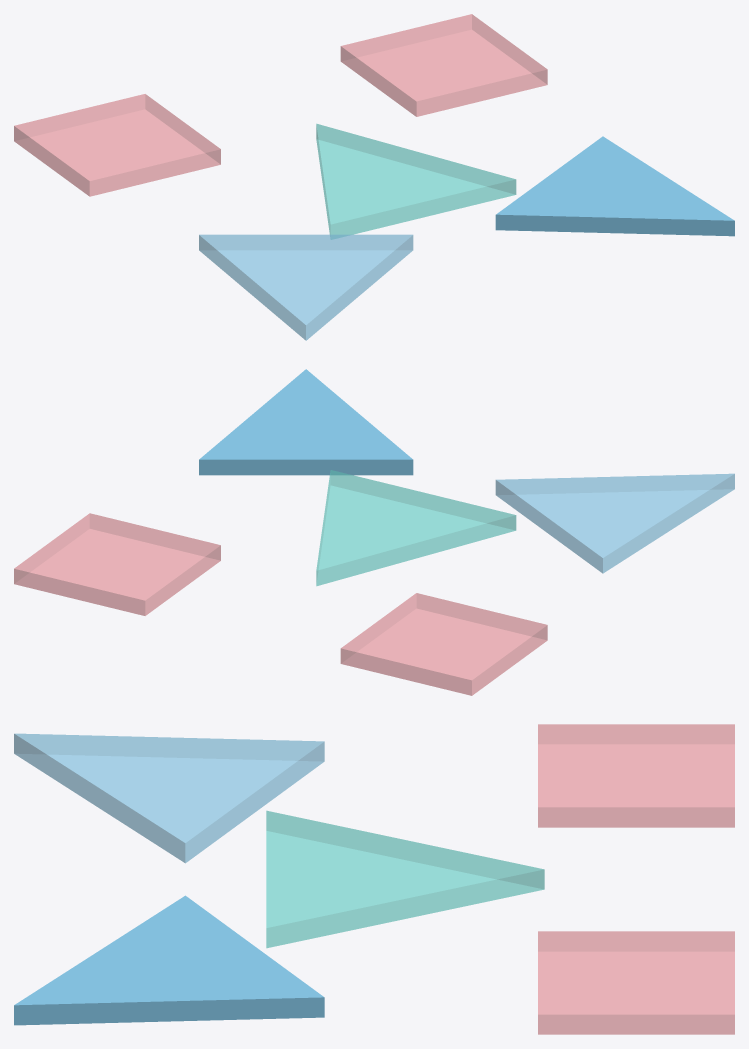
The model's file is farfalla_step6.glb.
3 views of the same model, one above another, from view 1: azimuth 30°, elevation 25°; view 2: azimuth 150°, elevation 25°; view 3: azimuth 270°, elevation 25° (orthographic). The views are drawn at different scales.
Visible parts, largest first — view 1: triangolo_isoscele_grande.001, triangolo_isoscele_grande, rombo.001, rombo, triangolo_isoscele_piccolo; view 2: triangolo_isoscele_grande, triangolo_isoscele_grande.001, rombo, rombo.001, triangolo_isoscele_piccolo; view 3: triangolo_isoscele_grande, triangolo_isoscele_grande.001, triangolo_isoscele_piccolo, rombo, rombo.001.
Part boxes in pixels (x1=…): triangolo_isoscele_grande.001: x1=495, y1=136, x2=734, y2=236; triangolo_isoscele_grande: x1=199, y1=234, x2=413, y2=340; rombo.001: x1=340, y1=14, x2=547, y2=116; rombo: x1=14, y1=94, x2=220, y2=196; triangolo_isoscele_piccolo: x1=316, y1=123, x2=516, y2=239; triangolo_isoscele_grande: x1=495, y1=473, x2=734, y2=573; triangolo_isoscele_grande.001: x1=199, y1=369, x2=413, y2=475; rombo: x1=340, y1=593, x2=547, y2=695; rombo.001: x1=14, y1=513, x2=220, y2=615; triangolo_isoscele_piccolo: x1=316, y1=470, x2=516, y2=586; triangolo_isoscele_grande: x1=14, y1=733, x2=324, y2=863; triangolo_isoscele_grande.001: x1=14, y1=895, x2=324, y2=1025; triangolo_isoscele_piccolo: x1=266, y1=810, x2=544, y2=948; rombo: x1=538, y1=724, x2=734, y2=827; rombo.001: x1=538, y1=931, x2=734, y2=1034.
Size of the model in its own units: 2.47 by 0.08 by 2.59.
